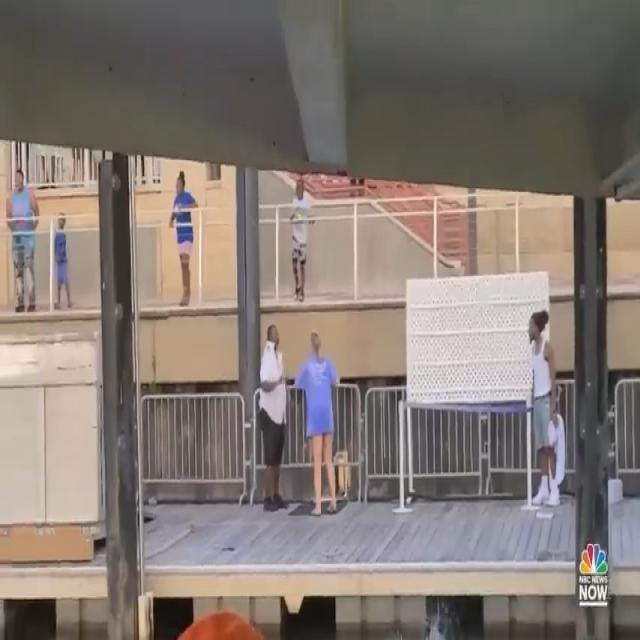non-fight: (248, 320, 351, 527), (507, 295, 572, 518), (157, 165, 212, 316), (0, 159, 44, 320), (282, 171, 319, 309)
